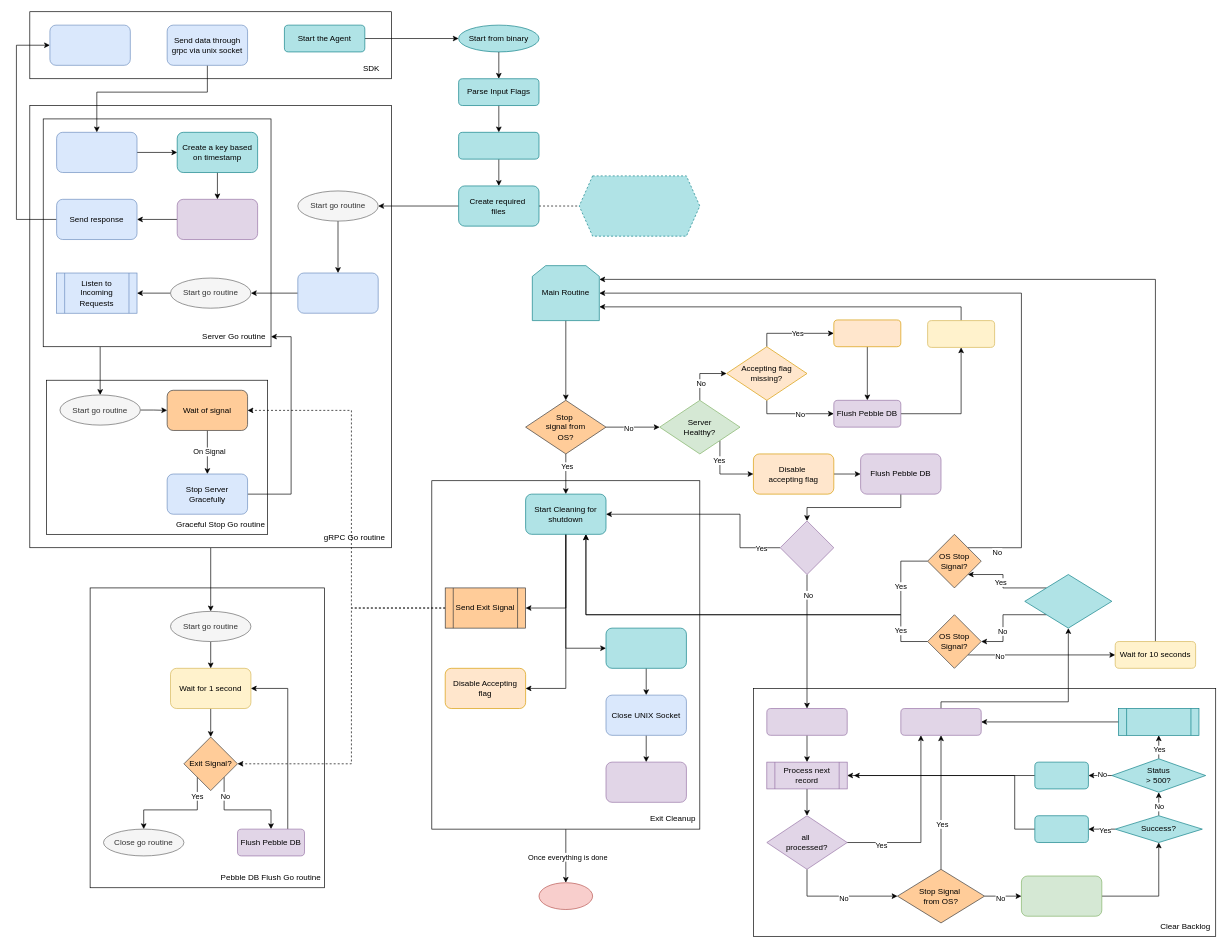
This 1227x948 diagram has some shape labels left out. Here are the shapes that lost their labels. From the top down, the centre of each, then its label:
[89,44]: Receive Response
[96,152]: Request Received
[498,145]: Setup Config
[217,219]: Store data in Pebble DB
[639,205]: Session Dir for logs UNIX Socket Pebble DB Agent Status File
[337,292]: Create new Server
[867,333]: Enable Accepting flag
[961,333]: Wait for 5 seconds
[807,547]: Pebble DB Empty?
[1068,601]: Failure reported?
[645,647]: Close Opened Files
[806,721]: Iterate through records
[940,721]: Delete Processed Keys
[1158,721]: Report failure to Main Routine
[645,781]: Clear Pebble DB if no data present
[1061,775]: Log Failure
[1061,829]: Log Success
[565,896]: EXIT
[1061,895]: Send data to Server
